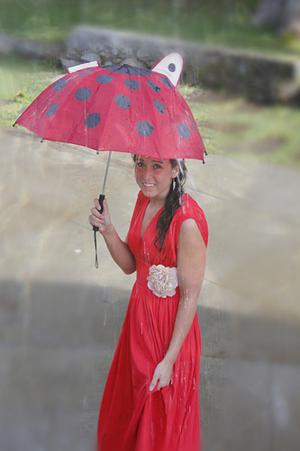person: (88, 154, 209, 450)
